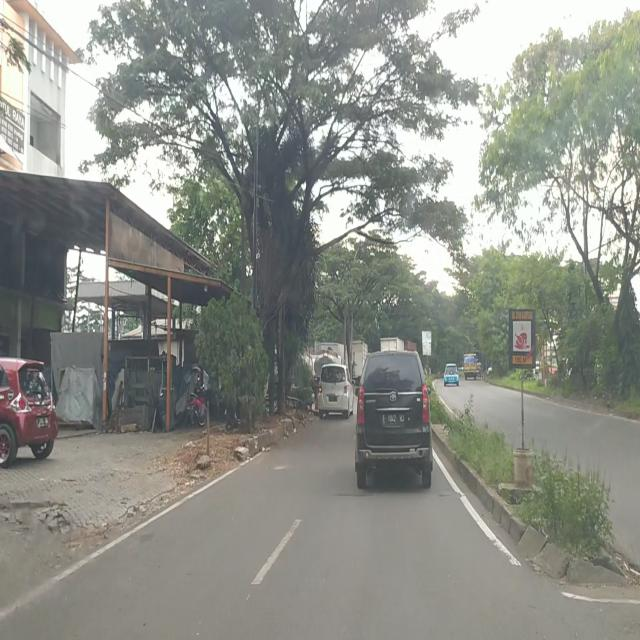Sewer Cover: (332, 490, 458, 498)
